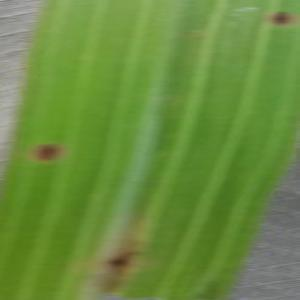Brown_Spot: (100, 238, 146, 275), (29, 134, 66, 172), (264, 5, 300, 35)
